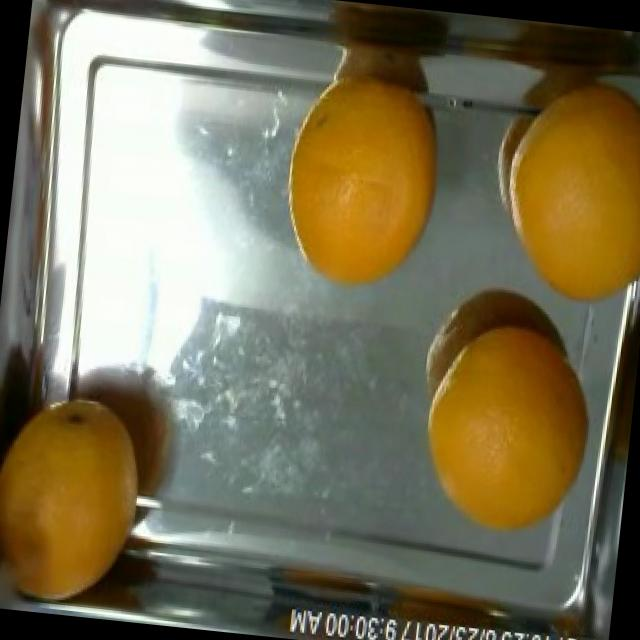Fruit: (264, 95, 460, 308), (0, 400, 157, 622)
